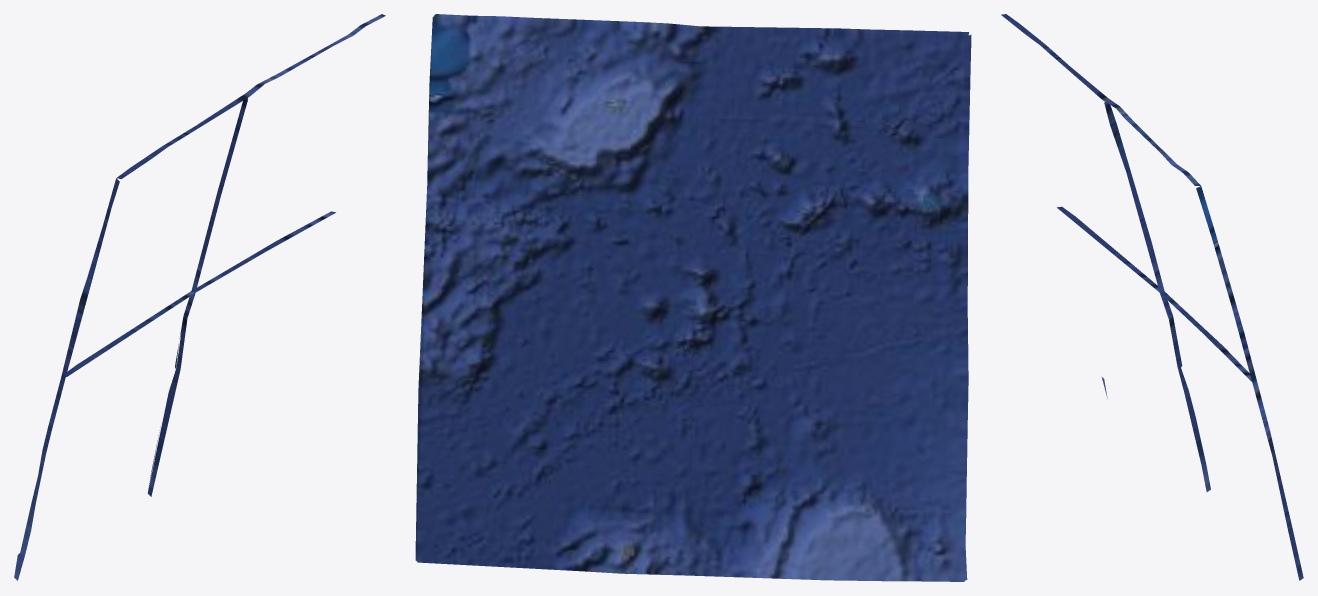
The picture shows the model from 3 angles, left to right: view 1: azimuth 30°, elevation 25°; view 2: azimuth 150°, elevation 25°; view 3: azimuth 270°, elevation 25°; orthographic projection. The views are drawn at different scales.
Bounding box in the file's own units: 620058 × 612716 × 404750.
1 material, 1 textured.
